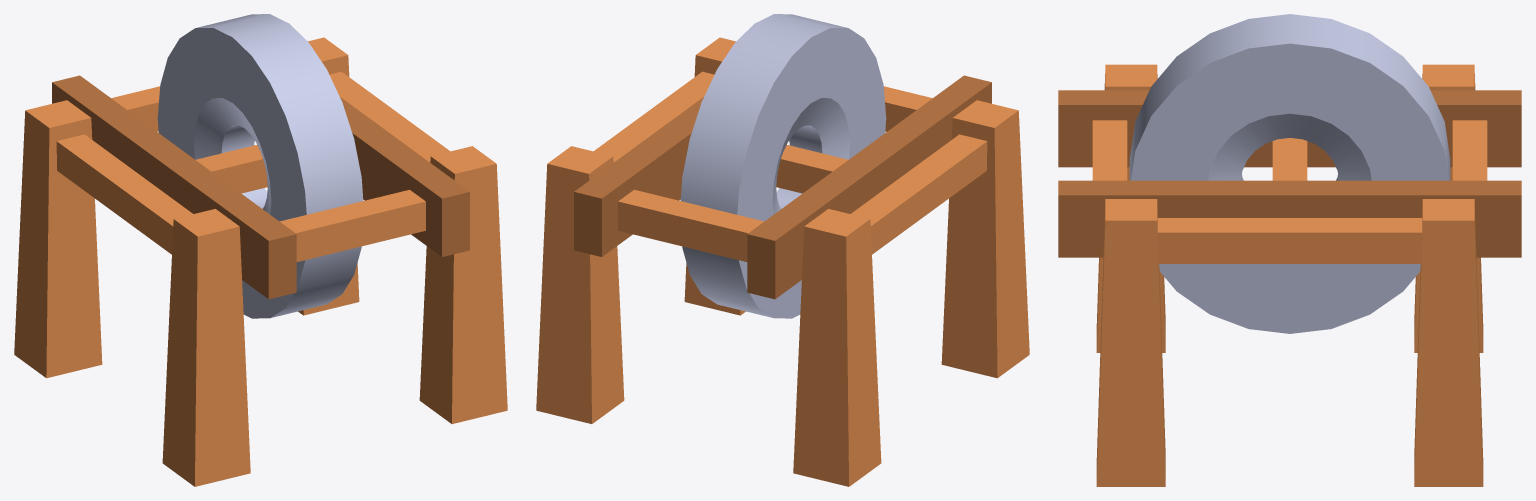
Rendered from workbenchGrind.fbx.
3 renders of one model, left to right at view 1: azimuth 30°, elevation 25°; view 2: azimuth 150°, elevation 25°; view 3: azimuth 270°, elevation 25°, orthographic. The views are drawn at different scales.
Visible parts, largest first — view 1: workbenchGrind; view 2: workbenchGrind; view 3: workbenchGrind.
Boxes of the visible parts, x1=… form: workbenchGrind: x1=14, y1=14, x2=507, y2=486; workbenchGrind: x1=536, y1=14, x2=1029, y2=486; workbenchGrind: x1=1058, y1=14, x2=1521, y2=486.
Bounding box in the file's own units: 2.6 × 2.8 × 3.12.
